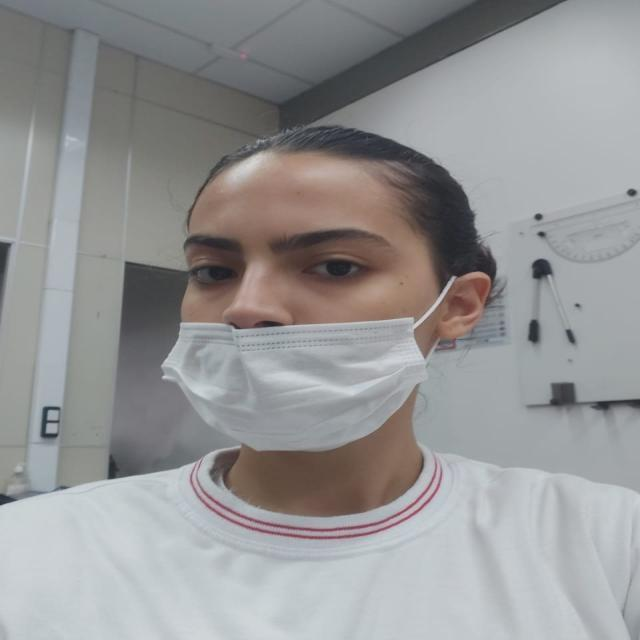hairnet: (170, 151, 444, 443)
